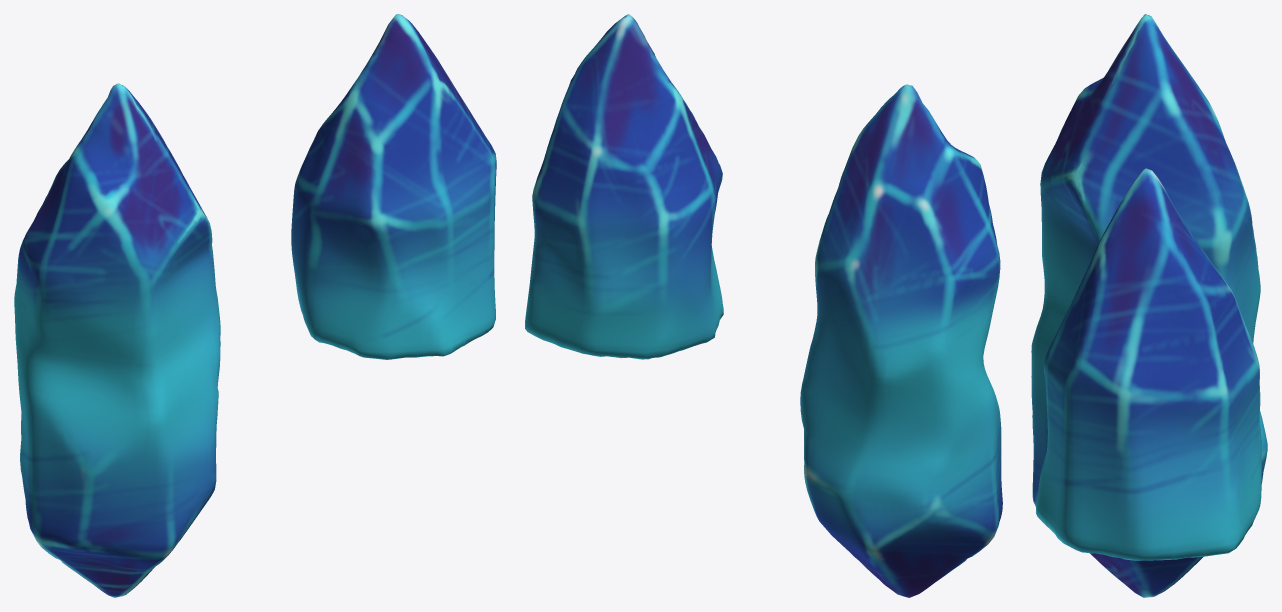
File: crystals.fbx
The picture shows the model from 3 angles, left to right: view 1: azimuth 30°, elevation 25°; view 2: azimuth 150°, elevation 25°; view 3: azimuth 270°, elevation 25°; orthographic projection. The views are drawn at different scales.
Parts seen in each view (by area): view 1: crystals.001, crystals; view 2: crystals.001, crystals; view 3: crystals, crystals.001.
Boxes of the visible parts, <box> form: crystals.001: <box>14,83,220,597</box>; crystals: <box>291,14,496,359</box>; crystals.001: <box>800,84,1002,597</box>; crystals: <box>525,14,723,359</box>; crystals: <box>1036,168,1261,560</box>; crystals.001: <box>1031,14,1267,597</box>.
Bounding box in the file's own units: 952 × 1028 × 377.
